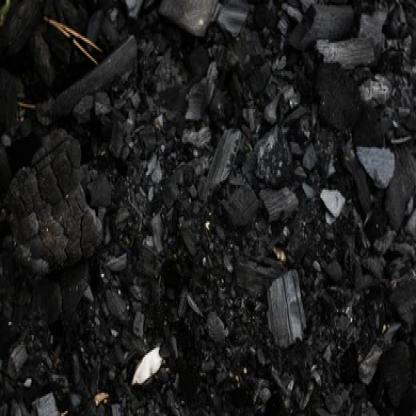Sedimentary_coal: (255, 251, 304, 338)
